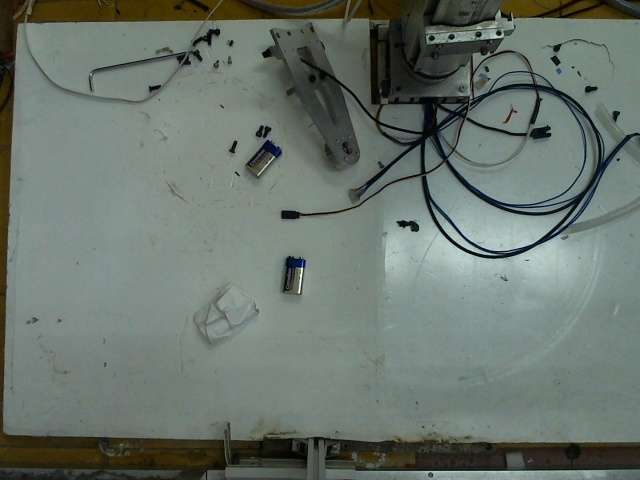battery: (248, 140, 281, 179), (279, 253, 306, 292)
